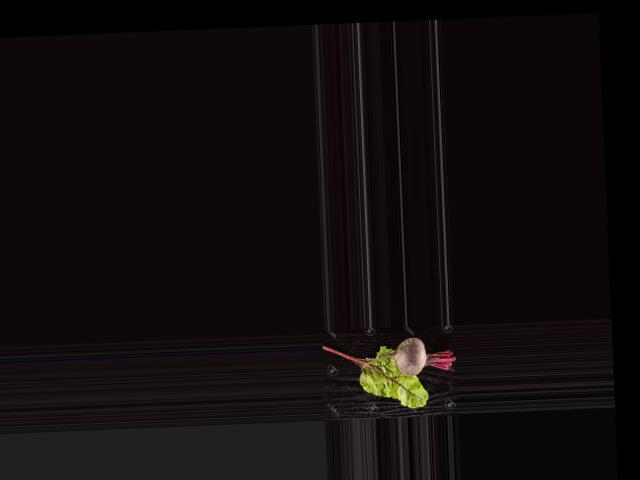beet: (359, 335, 457, 377)
